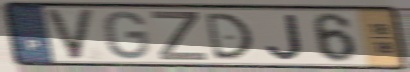6: (310, 11, 361, 65)
D: (202, 11, 255, 62)
G: (102, 10, 153, 61)
J: (265, 13, 306, 62)
V: (42, 7, 97, 62)
Z: (149, 10, 211, 63)
